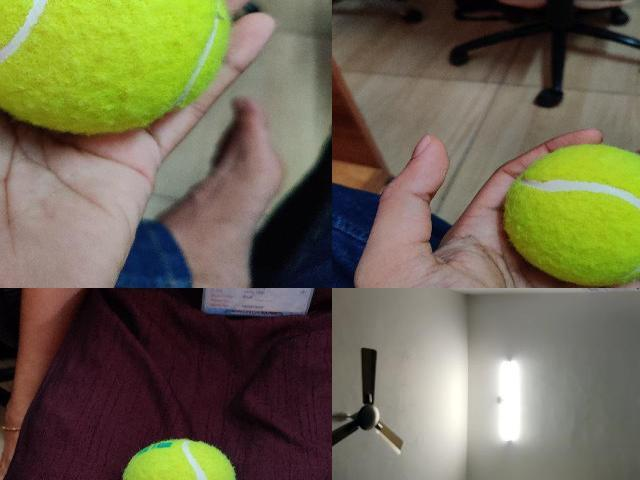tennis-ball: (0, 0, 227, 134), (503, 144, 639, 286), (123, 439, 236, 479)
